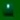green: (0, 0, 20, 20)
